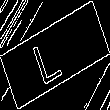L_NW: (37, 25, 73, 85)
